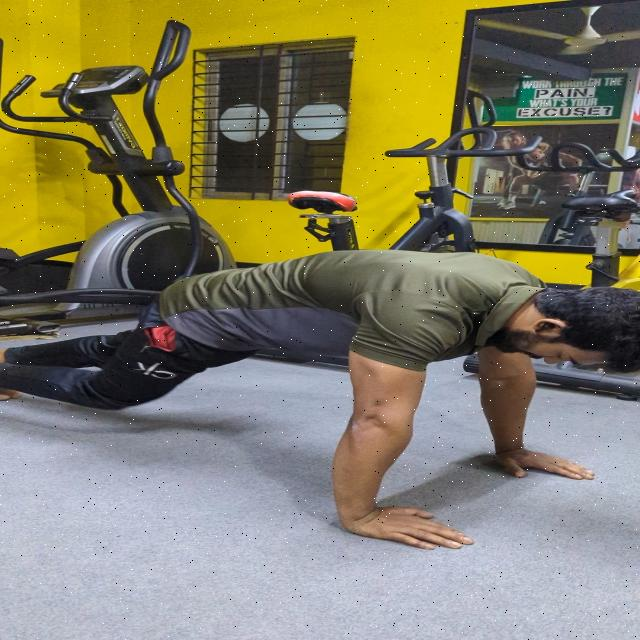Normal_MountainClimbers: (0, 221, 622, 552)
